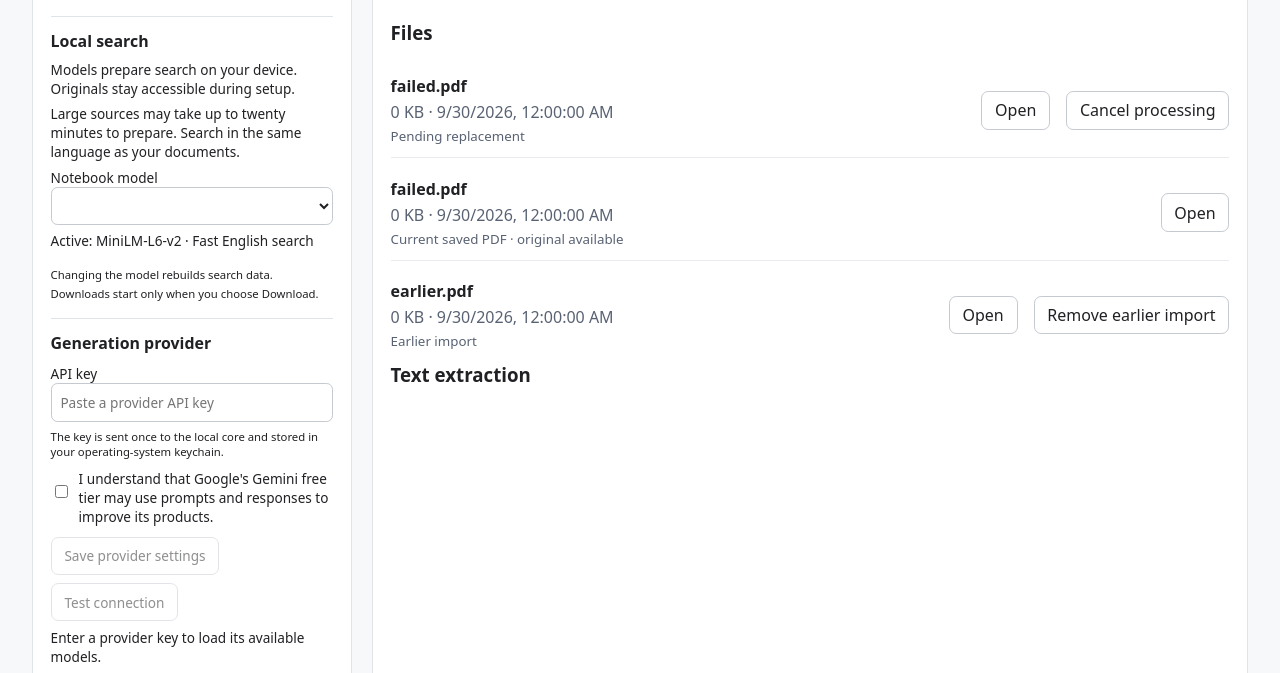
Test: does not let an older import poll restore a trashed history file
(page scrolled)
What coordinates should you click on to do the following:
click the button "Remove earlier import"
I would click on:
 (1131, 315)
Its box is [1034,296,1229,334].
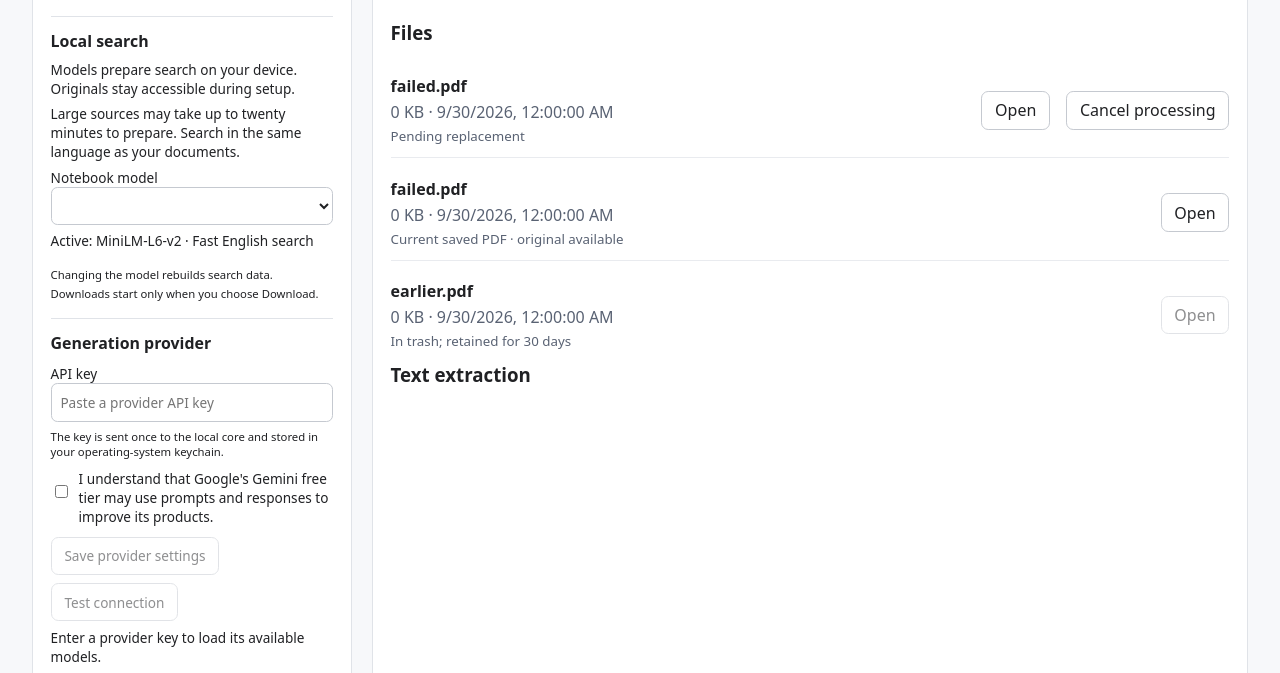
Check: the text "In trash; retained for 30 days" is shown, box [391,332,571,350]
Check: the button "Open" in the row of "earlier.pdf" is disabled, box [1161,296,1229,334]
Check: the button "Remove earlier import" is gone
